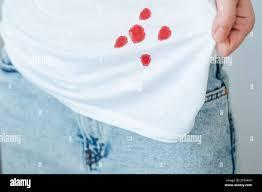blood: (129, 25, 146, 43), (158, 26, 172, 41), (114, 35, 128, 48), (139, 8, 151, 21), (141, 54, 151, 66)
